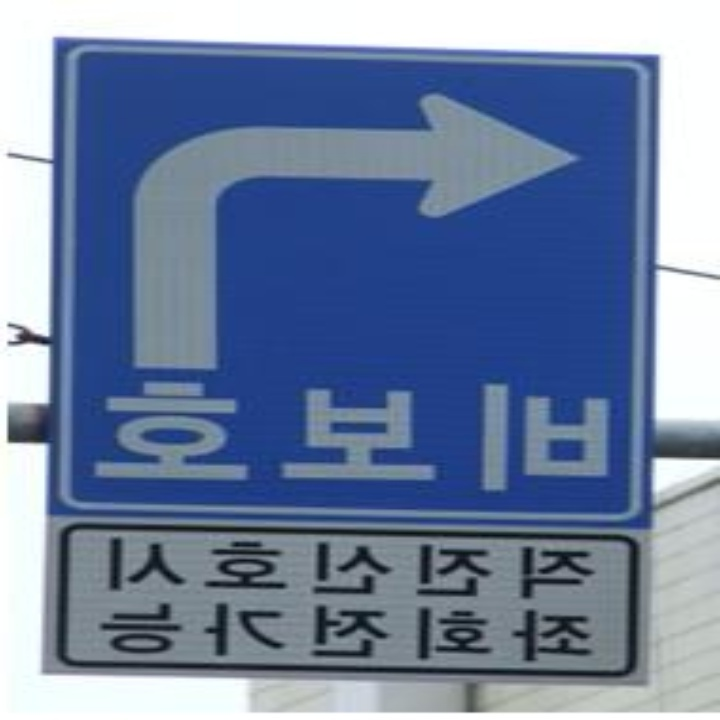right: (120, 83, 588, 374)
